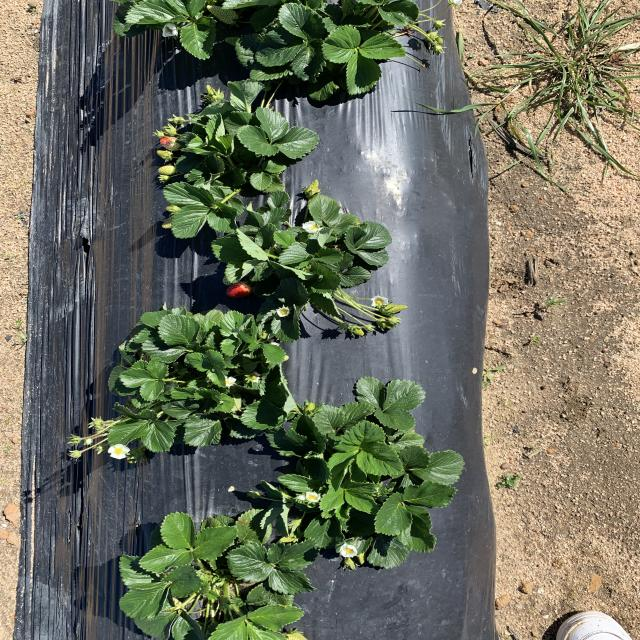unripe: (226, 282, 254, 298)
